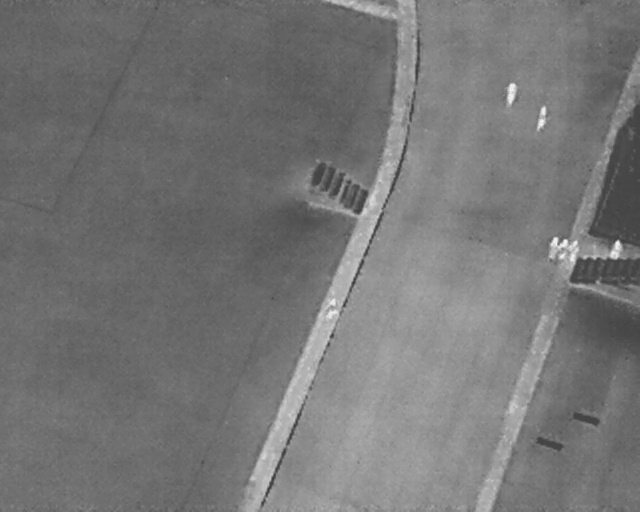Person: (533, 103, 551, 135), (502, 79, 520, 108), (608, 235, 625, 262), (567, 237, 581, 266), (326, 296, 341, 320), (556, 237, 570, 262), (547, 233, 559, 262)
